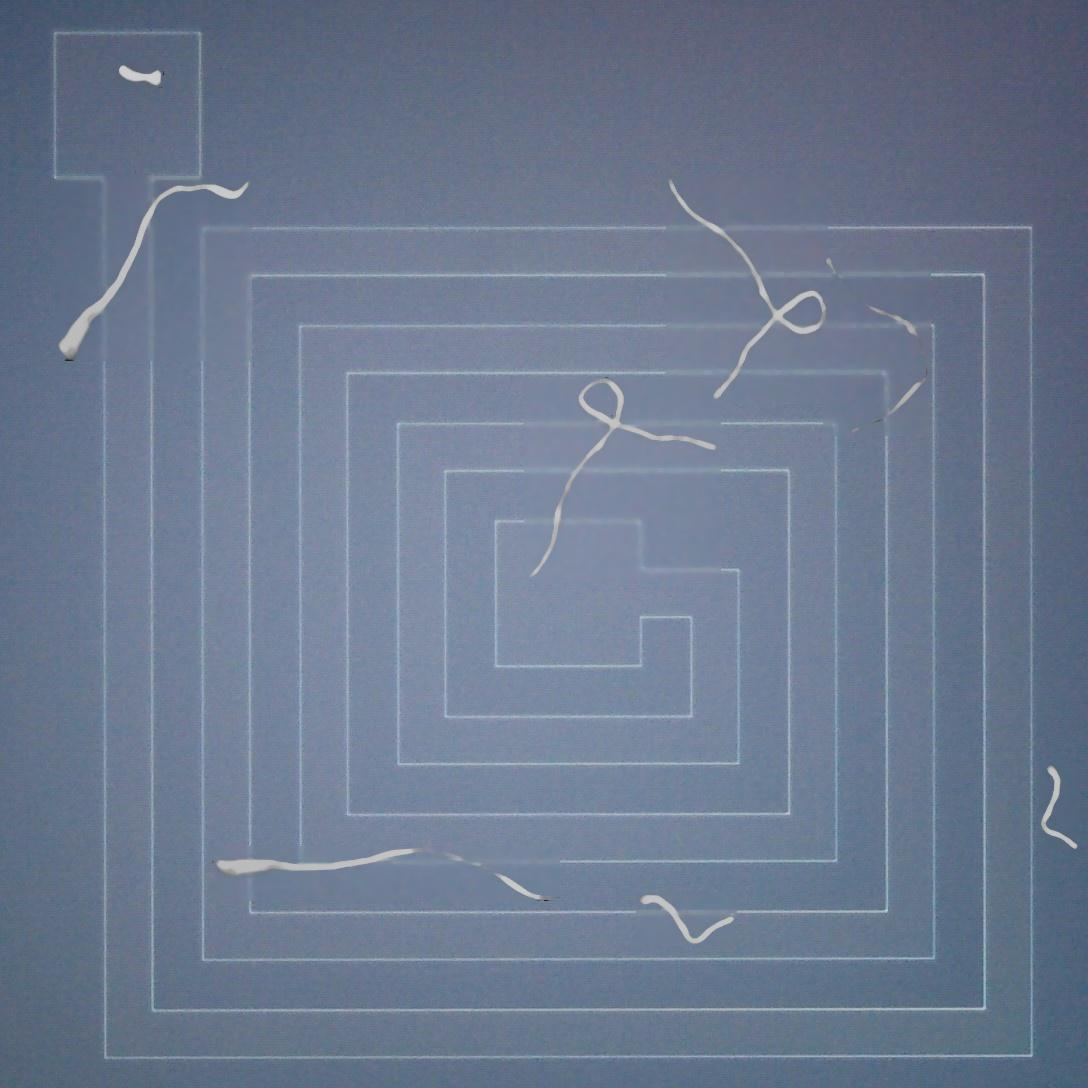foreign: (520, 370, 723, 587), (53, 170, 260, 372), (666, 174, 833, 407), (206, 842, 561, 918), (823, 250, 928, 355), (638, 886, 738, 948), (848, 366, 932, 439), (1034, 759, 1081, 855), (116, 61, 170, 94)
